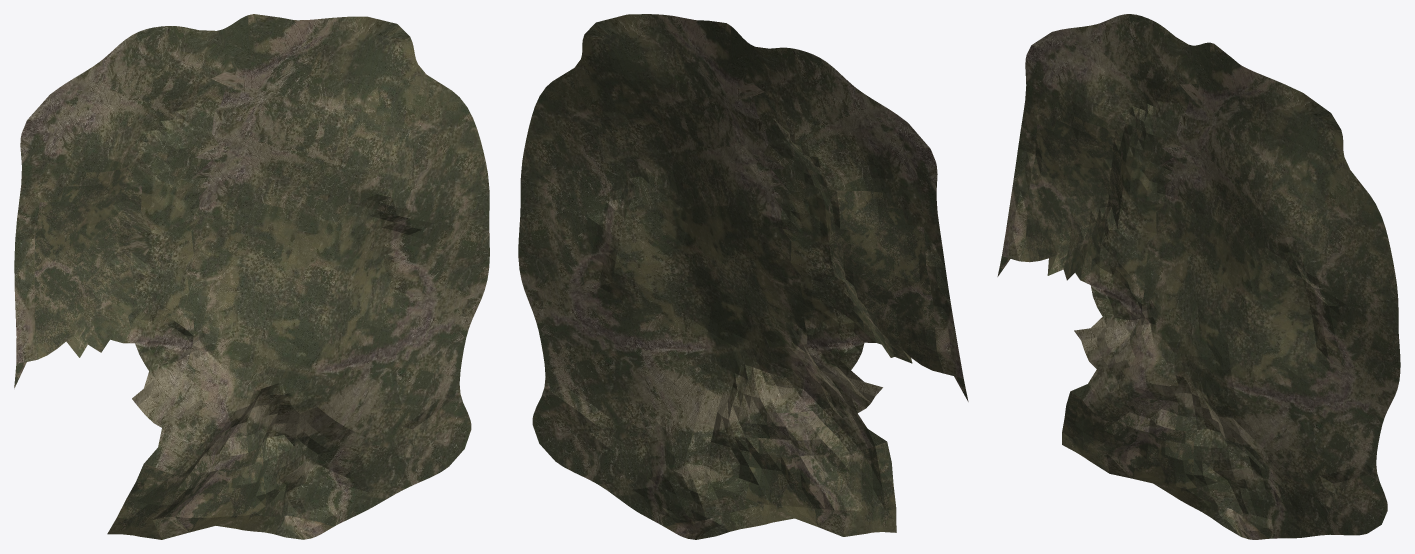
3 views of the same model, side by side, from view 1: azimuth 30°, elevation 25°; view 2: azimuth 150°, elevation 25°; view 3: azimuth 330°, elevation 25° (orthographic). The views are drawn at different scales.
Bounding box in the file's own units: 498 × 548 × 73.11.
1 material, 1 textured.
